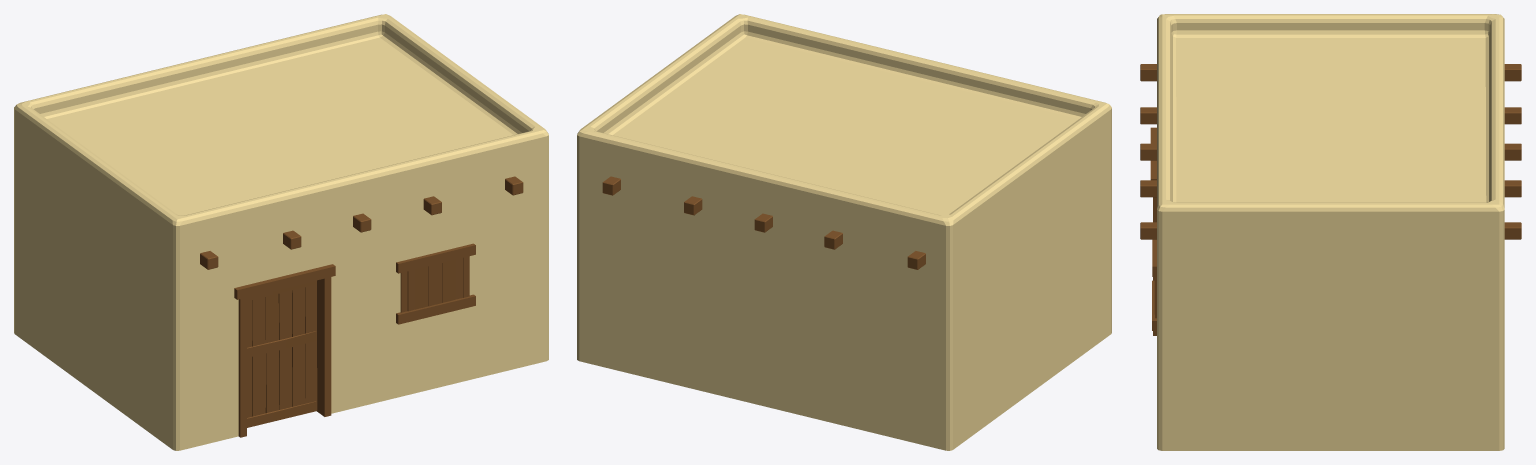
The model's file is building_01.glb.
The picture shows the model from 3 angles, left to right: view 1: azimuth 30°, elevation 25°; view 2: azimuth 150°, elevation 25°; view 3: azimuth 270°, elevation 25°; orthographic projection. The views are drawn at different scales.
Parts seen in each view (by area): view 1: house9.002, Cube.012, Cube.017, Cube.018; view 2: house9.002; view 3: house9.002.
Part boxes in pixels (x1=…): house9.002: x1=14, y1=14, x2=548, y2=450; Cube.012: x1=247, y1=280, x2=317, y2=427; Cube.017: x1=407, y1=264, x2=435, y2=311; Cube.018: x1=435, y1=258, x2=462, y2=304; house9.002: x1=577, y1=14, x2=1111, y2=450; house9.002: x1=1140, y1=14, x2=1521, y2=450.
Size of the model in its own units: 3.66 by 2.14 by 3.02.
